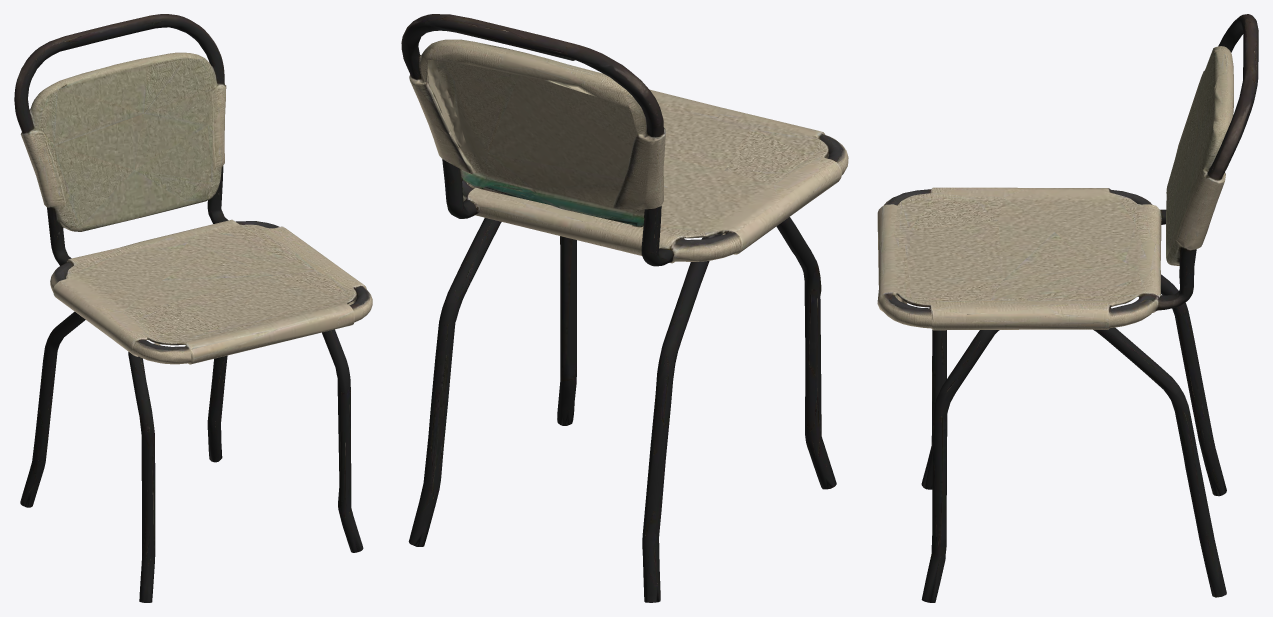
The model's file is terracoCafeChair.glb.
3 views of the same model, side by side, from view 1: azimuth 30°, elevation 25°; view 2: azimuth 150°, elevation 25°; view 3: azimuth 270°, elevation 25° (orthographic). The views are drawn at different scales.
Size of the model in its own units: 1.05 by 1.9 by 1.31.
1 material, 1 textured.
